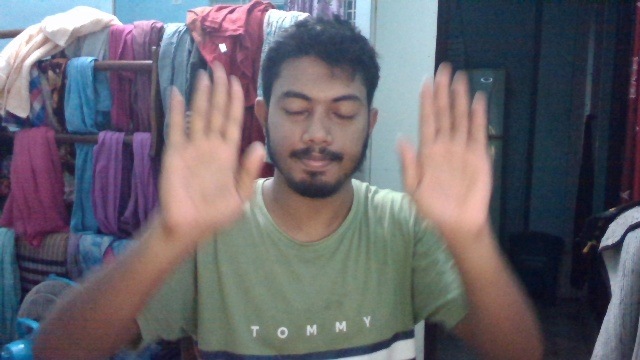thanks: (160, 55, 512, 260)
